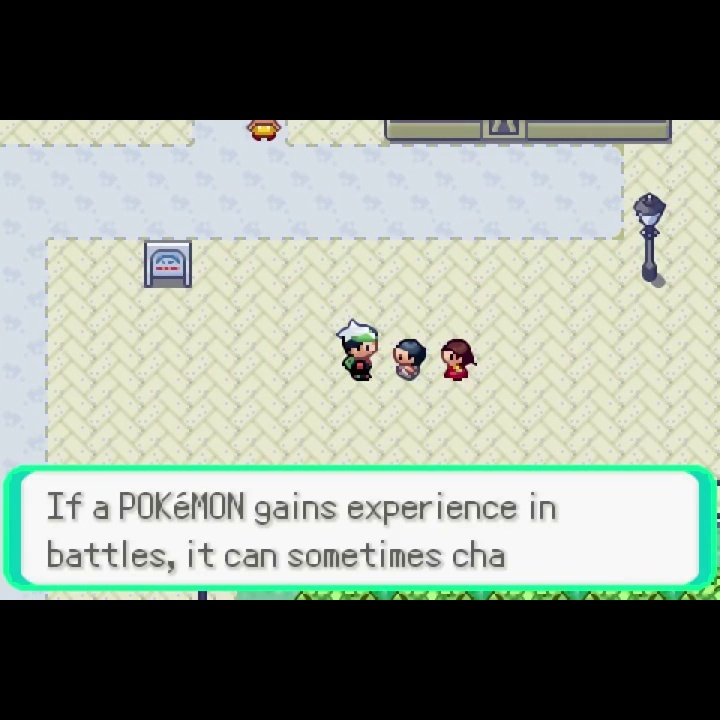agent: (333, 315, 380, 383)
npc: (437, 334, 480, 384), (391, 334, 428, 382)
